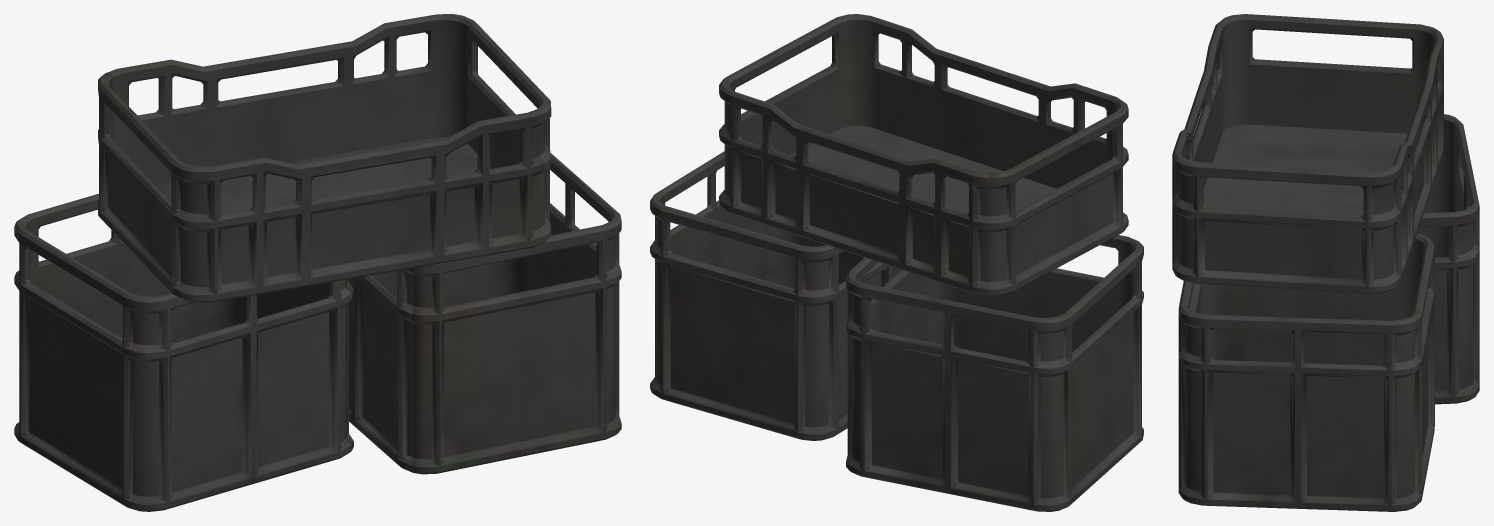
Rendered from prop_small_007.glb.
The picture shows the model from 3 angles, left to right: view 1: azimuth 30°, elevation 25°; view 2: azimuth 150°, elevation 25°; view 3: azimuth 270°, elevation 25°; orthographic projection. The views are drawn at different scales.
Parts seen in each view (by area): view 1: Building_12_012; view 2: Building_12_012; view 3: Building_12_012.
Boxes of the visible parts, x1,y1,x2,y2 form: Building_12_012: (14, 14, 621, 511); Building_12_012: (650, 14, 1143, 511); Building_12_012: (1172, 14, 1479, 511).
Size of the model in its own units: 0.8 by 0.5479 by 0.4921.
1 material, 1 textured.
